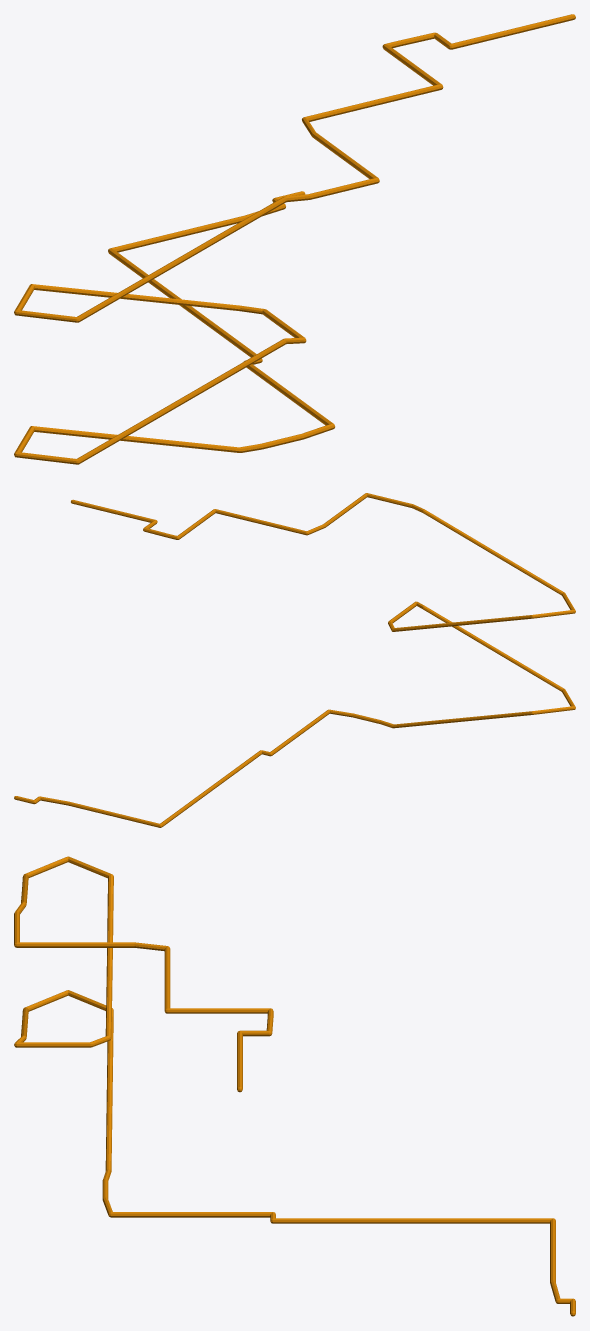
The picture shows the model from 3 angles, top to bottom: view 1: azimuth 30°, elevation 25°; view 2: azimuth 150°, elevation 25°; view 3: azimuth 270°, elevation 25°; orthographic projection. The views are drawn at different scales.
Bounding box in the file's own units: 2406 × 1020 × 1907.
